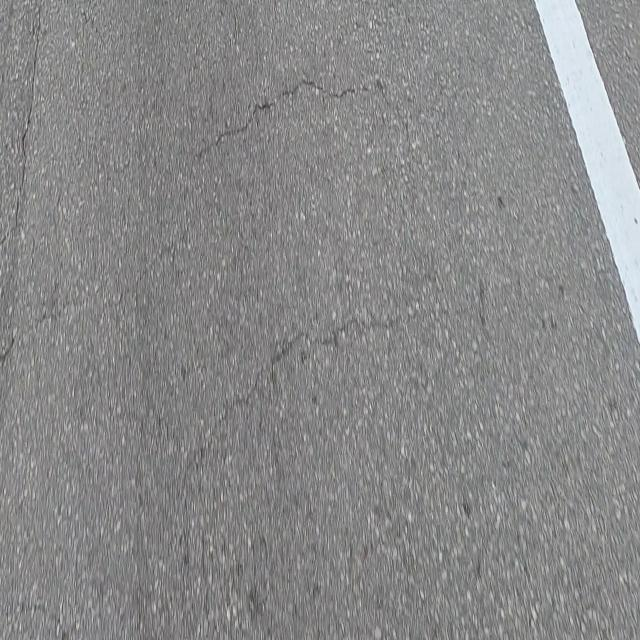Retak-Melintang: (182, 304, 437, 470), (197, 75, 412, 160)
Retak-Memanjang: (14, 0, 43, 233)
